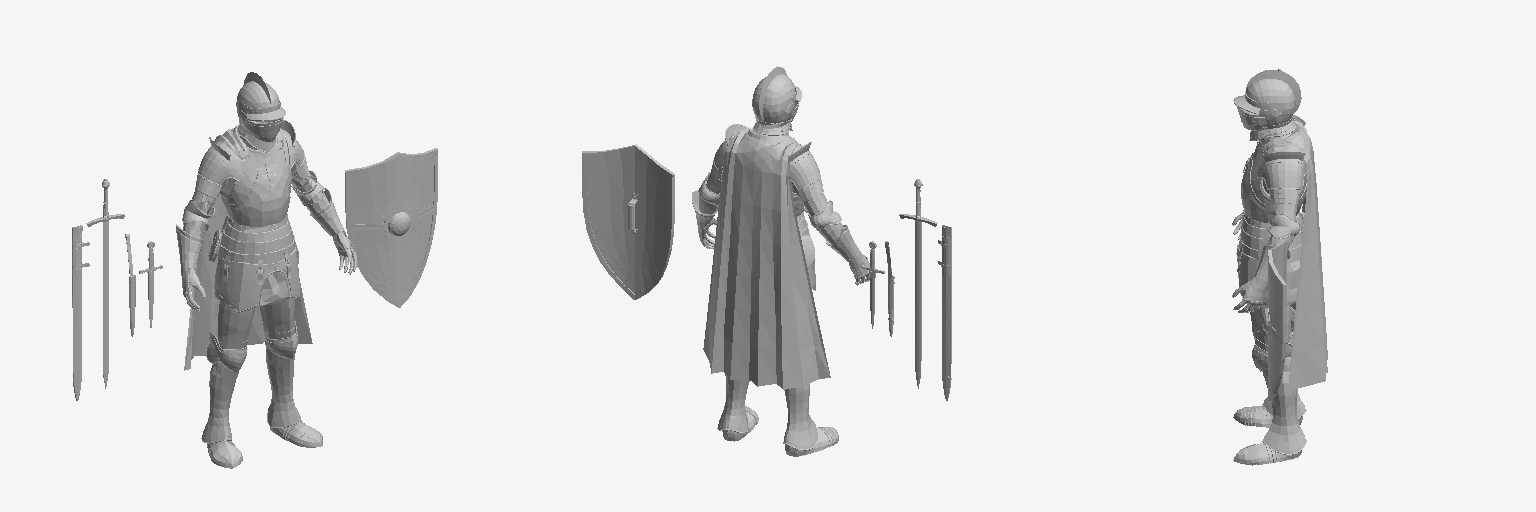
The model's file is armor 2021.obj.
3 views of the same model, side by side, from view 1: azimuth 30°, elevation 25°; view 2: azimuth 150°, elevation 25°; view 3: azimuth 270°, elevation 25° (orthographic).
Visible parts, largest first — view 1: shield_L, main, leg, cloak, arm, helm, hand, clothing, scabbard, foot, sword; view 2: cloak, shield_L, arm, leg, helm, scabbard, hand, sword, foot, main; view 3: cloak, main, leg, helm, arm, shield_L, foot, hand, clothing.
Part boxes in pixels (x1,y1,x2,y2): shield_L: (345,148,437,307); main: (218,135,299,312); leg: (201,297,301,443); cloak: (184,122,312,370); arm: (182,120,328,238); helm: (236,72,285,152); hand: (176,188,357,310); clothing: (191,162,322,334); scabbard: (72,225,89,400); foot: (207,422,322,468); sword: (86,179,124,388); cloak: (703,127,830,389); shield_L: (582,144,674,299); arm: (698,124,851,259); leg: (717,374,818,450); helm: (752,66,801,135); scabbard: (938,225,951,400); hand: (692,190,869,285); sword: (899,179,937,388); foot: (722,406,838,456); main: (779,132,815,290); cloak: (1261,121,1327,390); main: (1236,134,1307,305); leg: (1250,305,1306,454); helm: (1233,70,1301,140); arm: (1257,115,1306,247); shield_L: (1261,240,1286,404); foot: (1233,405,1302,465); hand: (1232,212,1289,312); clothing: (1262,179,1299,338).
Bounding box in the file's own units: 14.32 × 13.75 × 3.24.